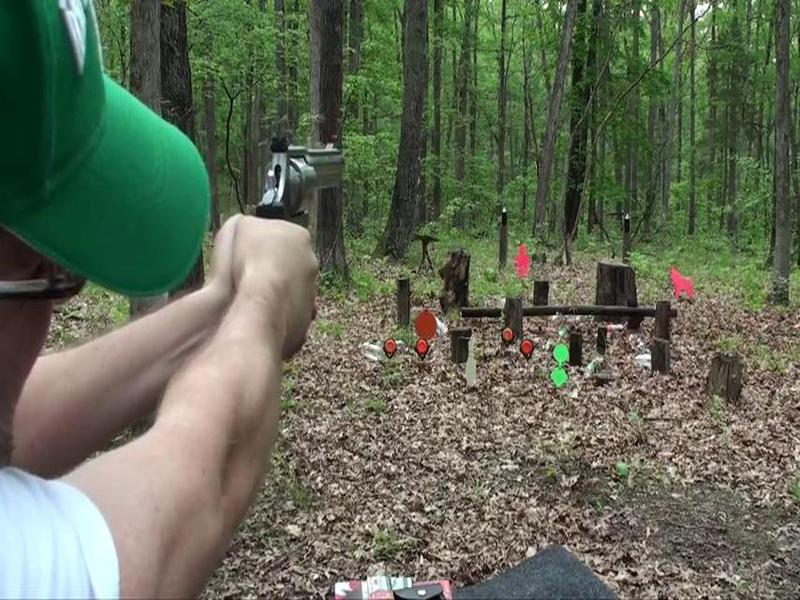Revolver: (225, 129, 366, 255)
